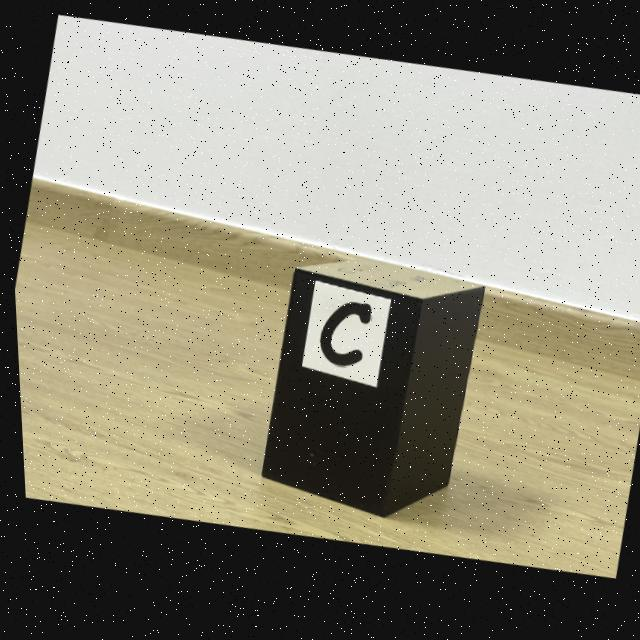C: (316, 308, 368, 372)
